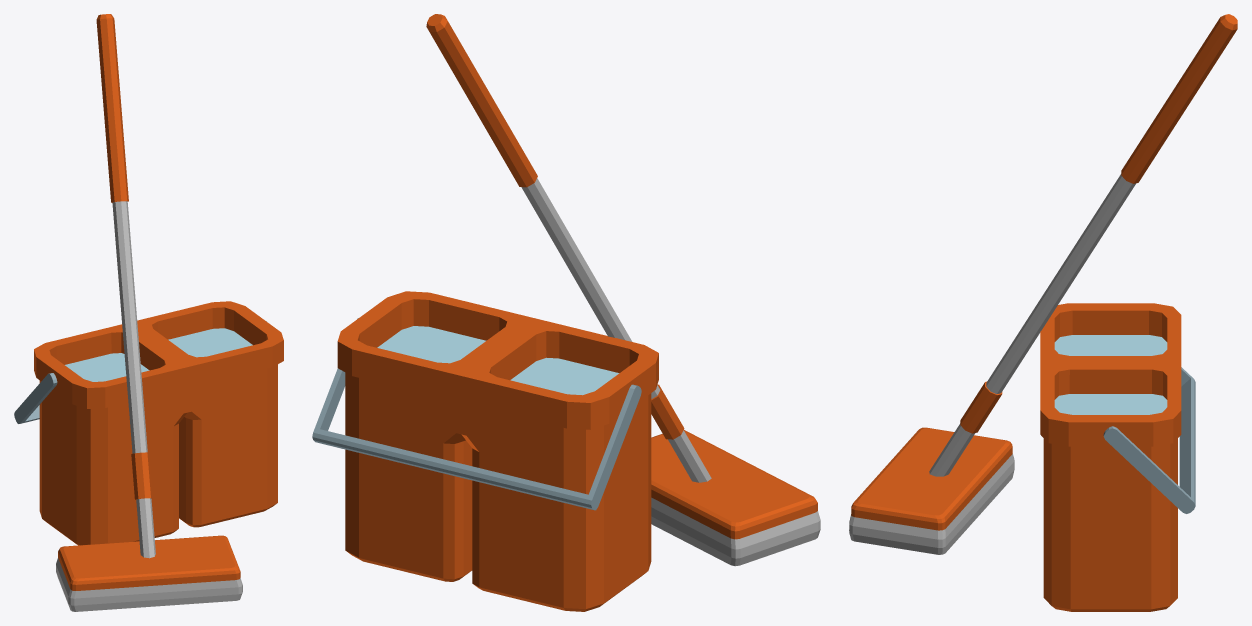
Rendered from Valde01_Con_Trapeador.fbx.
The picture shows the model from 3 angles, left to right: view 1: azimuth 30°, elevation 25°; view 2: azimuth 150°, elevation 25°; view 3: azimuth 270°, elevation 25°; orthographic projection. The views are drawn at different scales.
Parts seen in each view (by area): view 1: Valde01_Con_Trapeador; view 2: Valde01_Con_Trapeador; view 3: Valde01_Con_Trapeador.
Part boxes in pixels (x1,y1,x2,y2): Valde01_Con_Trapeador: (14, 14, 283, 611); Valde01_Con_Trapeador: (312, 14, 820, 611); Valde01_Con_Trapeador: (849, 14, 1237, 611).
Size of the model in its own units: 69.88 by 111 by 72.35.
